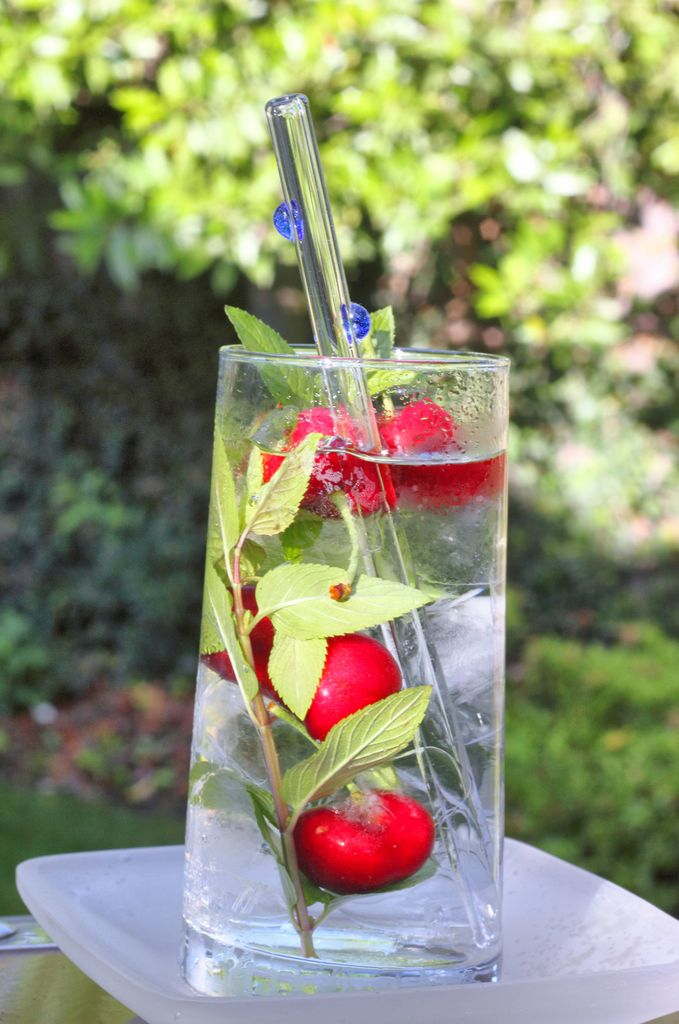Tree: (0, 0, 678, 569)
